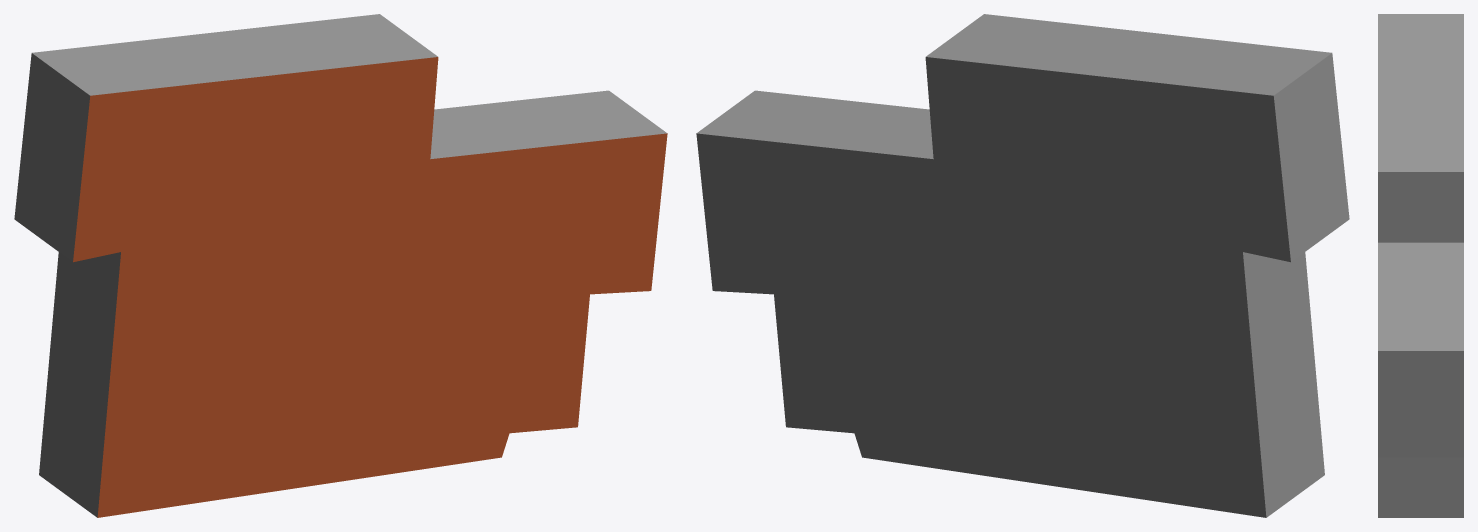
The model's file is construction_0580_assumed_A_Casa_h6m.obj.
3 views of the same model, side by side, from view 1: azimuth 30°, elevation 25°; view 2: azimuth 150°, elevation 25°; view 3: azimuth 270°, elevation 25° (orthographic). The views are drawn at different scales.
Visible parts, largest first — view 1: construction_0580_assumed_A_Casa; view 2: construction_0580_assumed_A_Casa; view 3: construction_0580_assumed_A_Casa.
Boxes of the visible parts, bbox=[...] form: construction_0580_assumed_A_Casa: bbox=[14, 14, 667, 517]; construction_0580_assumed_A_Casa: bbox=[696, 14, 1349, 517]; construction_0580_assumed_A_Casa: bbox=[1378, 14, 1463, 517].
Size of the model in its own units: 35.14 by 26.1 by 6.
